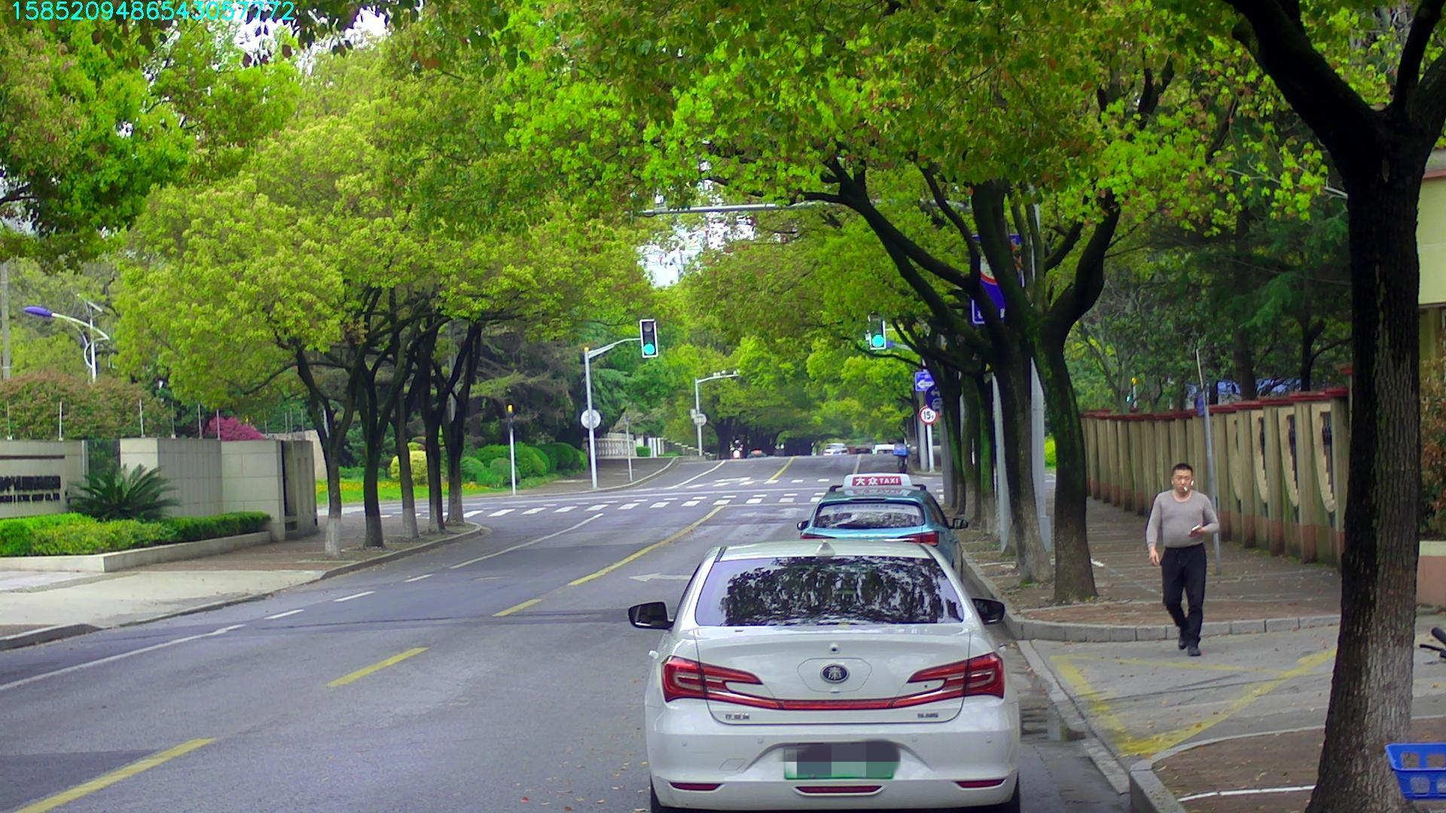green: (869, 310, 885, 348), (641, 320, 655, 355)
